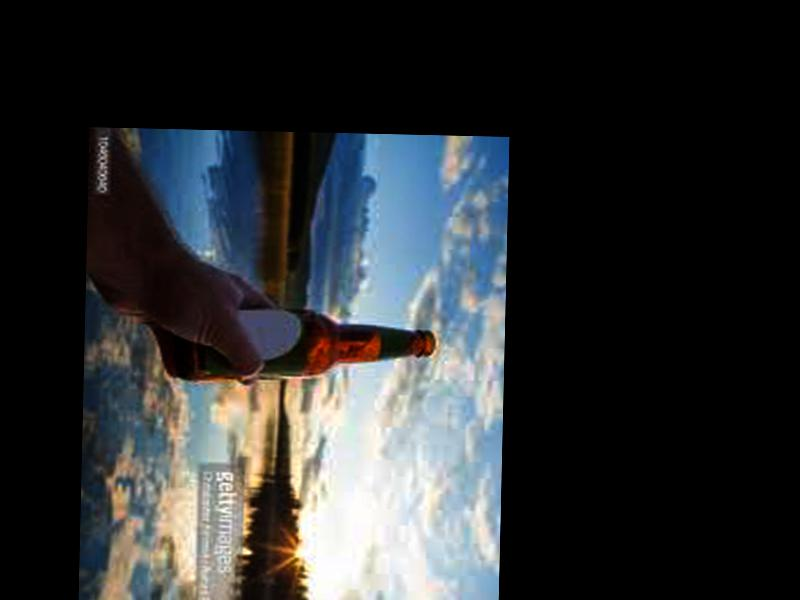Beer: (177, 304, 436, 388)
